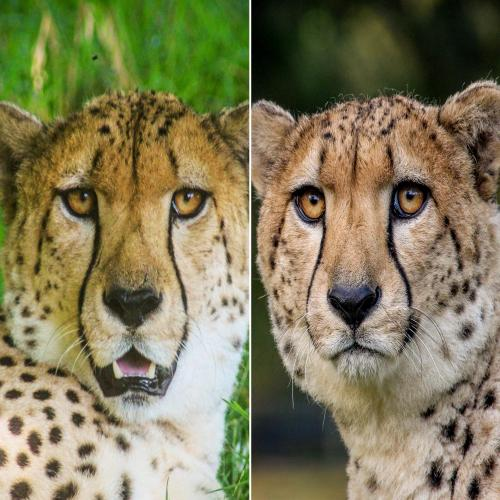cheetah-endangered: (252, 92, 500, 488), (2, 96, 248, 495)
